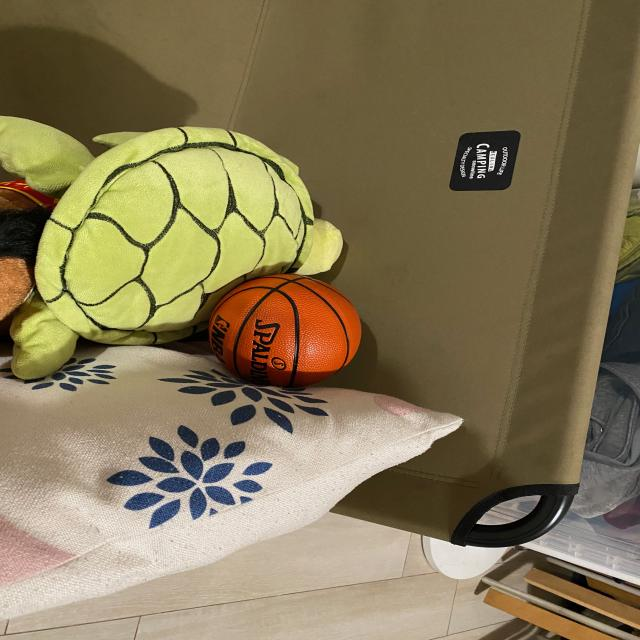Ball: (190, 260, 386, 403)
